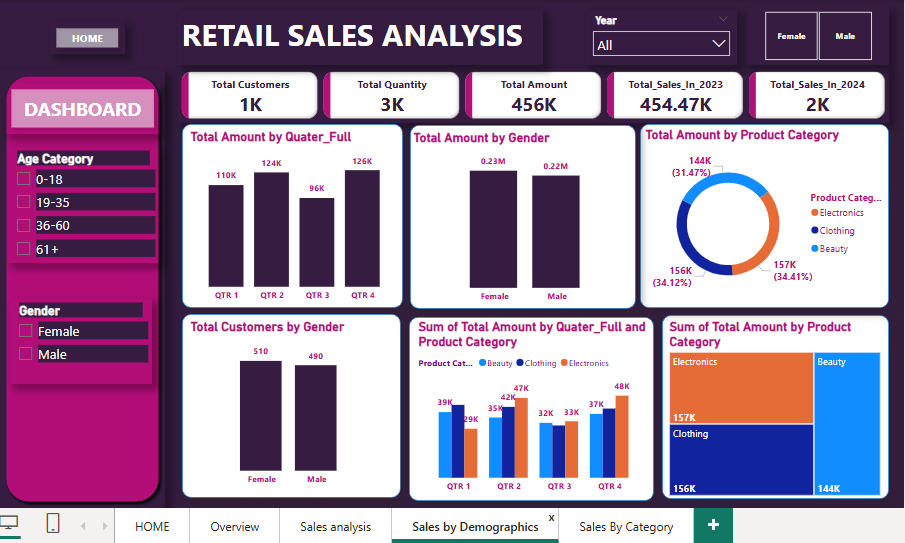

This screenshot's page, from the dashboard's own definition file:
{"tool":"powerbi","page":{"name":"Sales by Demographics","canvas":[1280,720],"ordinal":3},"visuals":[{"type":"slicer","fields":{"Values":["retail_sales_dataset.Gender"]},"box":[1059.2,10.1,200.6,82.3],"z":0},{"type":"slicer","fields":{"Values":["retail_sales_dataset.Year"]},"box":[830.6,14.2,214,78],"z":1000},{"type":"cardVisual","fields":{"Data":["All Kpi.Total Customers","All Kpi.Total Quantity","All Kpi.Total Amount","All Kpi.Total_Sales_In_2023","All Kpi.Total_Sales_In_2024"]},"box":[252.3,96.4,1007.7,78],"z":2000},{"type":"textbox","box":[252.5,14.4,516.6,77.9],"z":3000},{"type":"shape","box":[0,99.2,233.9,620.8],"z":4000},{"type":"actionButton","box":[70.9,31.2,106.3,45.4],"z":5000},{"type":"actionButton","box":[7.1,117.6,219.7,72.3],"z":6000},{"type":"slicer","fields":{"Values":["retail_sales_dataset.Age Category"]},"box":[11.3,208.3,214,164.4],"z":7000},{"type":"slicer","fields":{"Values":["retail_sales_dataset.Gender"]},"box":[14.2,423.8,201.3,120.5],"z":8000},{"type":"shape","box":[258,175.7,313.2,260.8],"z":9000},{"type":"columnChart","fields":{"Category":["retail_sales_dataset.Quater_Full"],"Y":["All Kpi.Total Amount"]},"box":[265,182.8,306.1,253.7],"z":10000},{"type":"shape","box":[938.3,446.5,321.7,260.8],"z":11000},{"type":"shape","box":[258,445,310.4,260.8],"z":12000},{"type":"shape","box":[907.1,175.7,352.9,260.8],"z":13000},{"type":"pieChart","fields":{"Category":["retail_sales_dataset.Product Category"],"Y":["All Kpi.Total Amount"]},"box":[909.9,180,352.9,253.7],"z":14000},{"type":"treemap","fields":{"Group":["retail_sales_dataset.Product Category"],"Values":["Sum(retail_sales_dataset.Total Amount)"]},"box":[943.9,452.1,309,255.1],"z":15000},{"type":"clusteredColumnChart","fields":{"Y":["All Kpi.Total Customers"],"Category":["retail_sales_dataset.Gender"]},"box":[265,452.1,290.6,245.2],"z":16000},{"type":"shape","box":[581.1,177.2,320.3,260.8],"z":17000},{"type":"columnChart","fields":{"Y":["All Kpi.Total Amount"],"Category":["retail_sales_dataset.Gender"]},"box":[581.1,184.3,328.8,253.7],"z":18000},{"type":"shape","box":[579.7,449.3,347.2,260.8],"z":19000},{"type":"clusteredColumnChart","fields":{"Category":["retail_sales_dataset.Quater_Full"],"Y":["Sum(retail_sales_dataset.Total Amount)"],"Series":["retail_sales_dataset.Product Category"]},"box":[588.2,452.1,338.7,255.1],"z":20000}]}

Visuals, with their boxes on the page's 1280x720 design canvas (x1, y1, x2, y2). These are canvas units, not pixel positions in the 905x543 screenshot, which may show the page scaled, cropped or inside an application window:
slicer - retail_sales_dataset.Gender: Rect(1059, 10, 1260, 92)
slicer - retail_sales_dataset.Year: Rect(831, 14, 1045, 92)
cardVisual - All Kpi.Total Customers x All Kpi.Total Quantity: Rect(252, 96, 1260, 174)
textbox: Rect(252, 14, 769, 92)
shape: Rect(0, 99, 234, 720)
actionButton: Rect(71, 31, 177, 77)
actionButton: Rect(7, 118, 227, 190)
slicer - retail_sales_dataset.Age Category: Rect(11, 208, 225, 373)
slicer - retail_sales_dataset.Gender: Rect(14, 424, 216, 544)
shape: Rect(258, 176, 571, 436)
columnChart - retail_sales_dataset.Quater_Full x All Kpi.Total Amount: Rect(265, 183, 571, 436)
shape: Rect(938, 446, 1260, 707)
shape: Rect(258, 445, 568, 706)
shape: Rect(907, 176, 1260, 436)
pieChart - retail_sales_dataset.Product Category x All Kpi.Total Amount: Rect(910, 180, 1263, 434)
treemap - retail_sales_dataset.Product Category x Sum(retail_sales_dataset.Total Amount): Rect(944, 452, 1253, 707)
clusteredColumnChart - All Kpi.Total Customers x retail_sales_dataset.Gender: Rect(265, 452, 556, 697)
shape: Rect(581, 177, 901, 438)
columnChart - All Kpi.Total Amount x retail_sales_dataset.Gender: Rect(581, 184, 910, 438)
shape: Rect(580, 449, 927, 710)
clusteredColumnChart - retail_sales_dataset.Quater_Full x Sum(retail_sales_dataset.Total Amount): Rect(588, 452, 927, 707)
